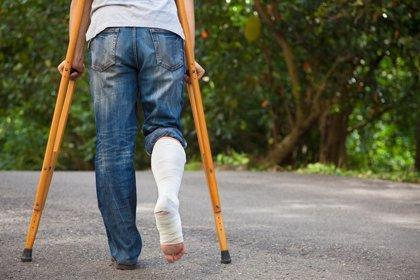crutches: (19, 0, 235, 269)
